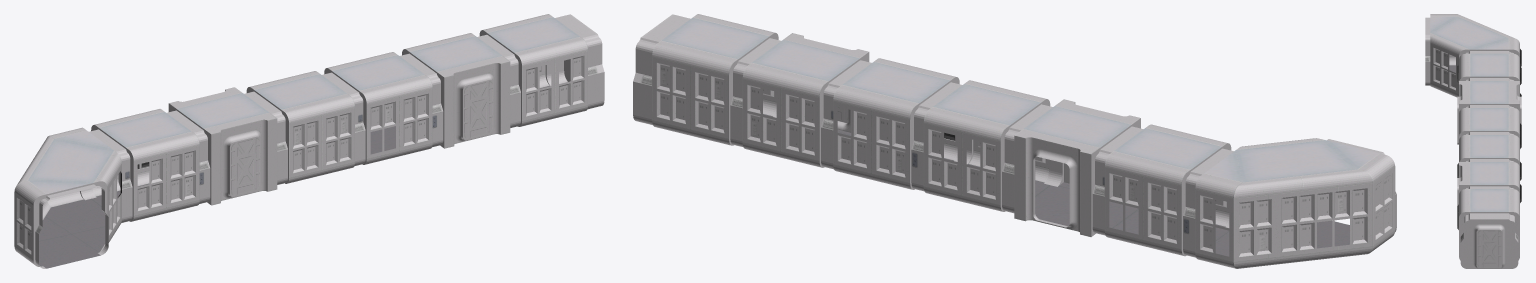
File: thm_spc_corvette_dungeon_r11_hall11_mesh_r11.fbx
3 renders of one model, left to right at view 1: azimuth 30°, elevation 25°; view 2: azimuth 150°, elevation 25°; view 3: azimuth 270°, elevation 25°, orthographic. The views are drawn at different scales.
Parts seen in each view (by area): view 1: mesh_node; view 2: mesh_node; view 3: mesh_node.
Boxes of the visible parts, x1=… form: mesh_node: x1=14, y1=14, x2=604, y2=268; mesh_node: x1=633, y1=14, x2=1396, y2=268; mesh_node: x1=1425, y1=14, x2=1521, y2=268.
Bounding box in the file's own units: 30.9 × 3.5 × 6.
